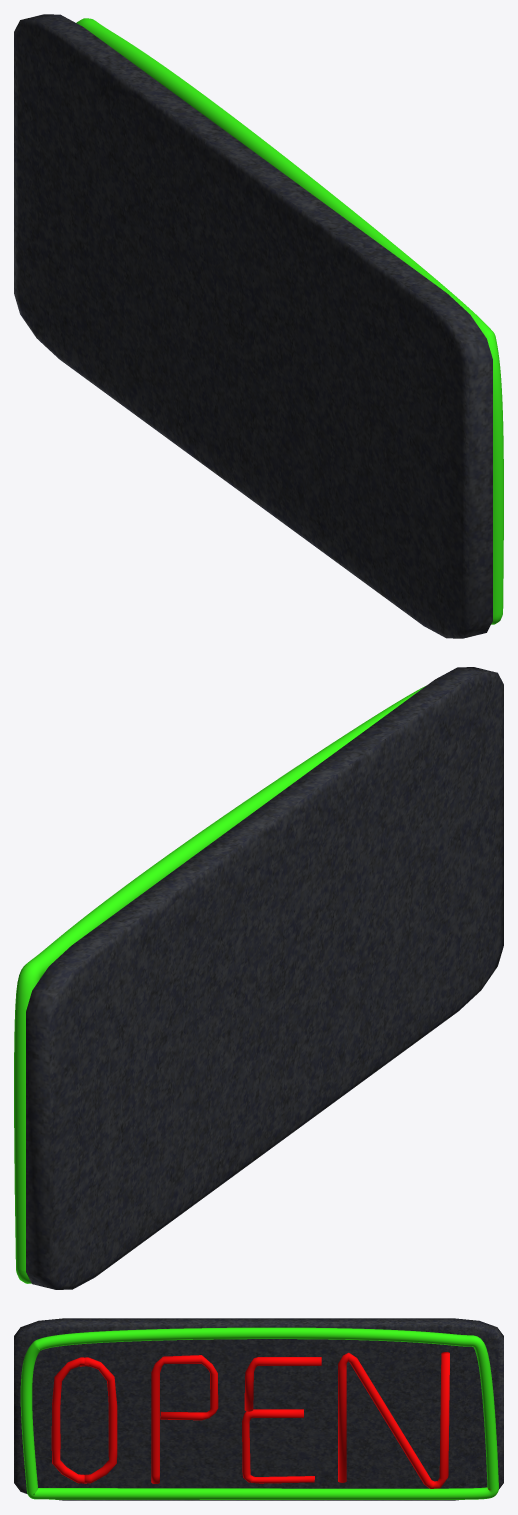
Rendered from NeonSign.fbx.
3 views of the same model, one above another, from view 1: azimuth 30°, elevation 25°; view 2: azimuth 150°, elevation 25°; view 3: azimuth 270°, elevation 25° (orthographic). The views are drawn at different scales.
Parts seen in each view (by area): view 1: NeonOpenSign; view 2: NeonOpenSign; view 3: NeonOpenSign.
Boxes of the visible parts, bbox=[...] form: NeonOpenSign: bbox=[14, 14, 503, 638]; NeonOpenSign: bbox=[14, 667, 503, 1289]; NeonOpenSign: bbox=[14, 1318, 503, 1500].
Size of the model in its own units: 6.26 by 33.74 by 84.93.
